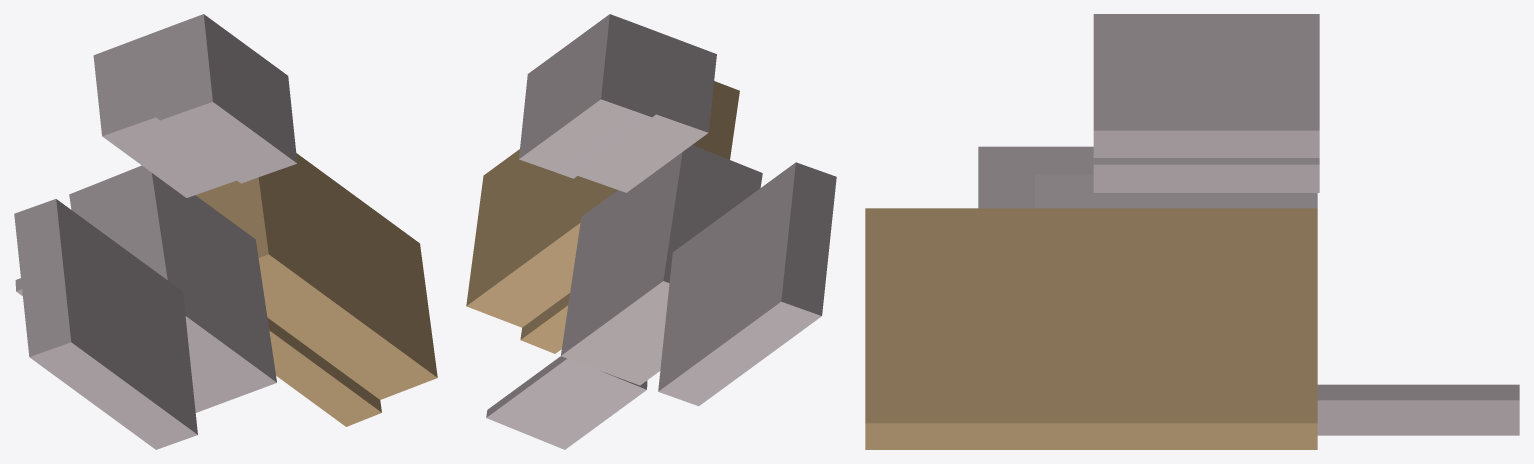
3 renders of one model, left to right at view 1: azimuth 30°, elevation 25°; view 2: azimuth 150°, elevation 25°; view 3: azimuth 270°, elevation 25°, orthographic. The views are drawn at different scales.
Parts seen in each view (by area): view 1: 0_2_3_3_3_0_2_3_0_0; view 2: 0_2_3_3_3_0_2_3_0_0; view 3: 0_2_3_3_3_0_2_3_0_0.
Boxes of the visible parts, x1=… form: 0_2_3_3_3_0_2_3_0_0: x1=14, y1=14, x2=437, y2=449; 0_2_3_3_3_0_2_3_0_0: x1=466, y1=14, x2=836, y2=449; 0_2_3_3_3_0_2_3_0_0: x1=865, y1=14, x2=1519, y2=449.
Bounding box in the file's own units: 20.87 × 23.86 × 34.73.
